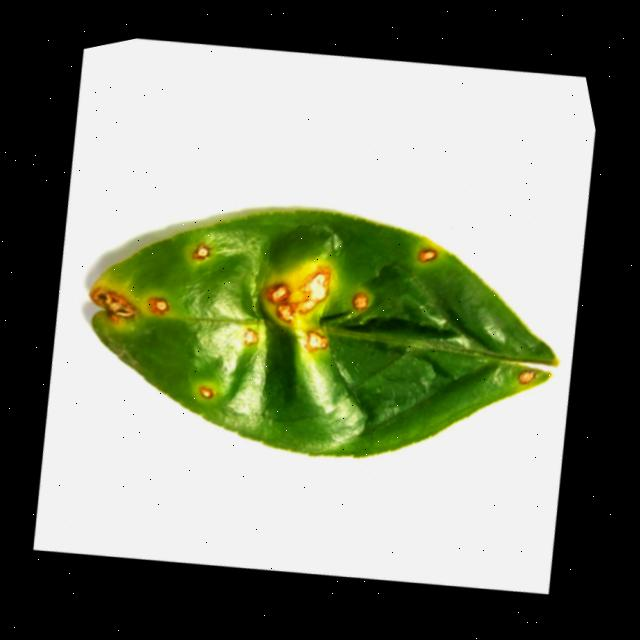antracnose: (90, 210, 555, 456), (266, 267, 330, 322), (91, 287, 136, 320), (302, 330, 327, 351), (148, 297, 169, 314), (352, 293, 368, 310), (193, 243, 209, 258), (243, 328, 257, 345), (518, 370, 534, 383), (419, 249, 436, 261), (199, 386, 214, 398)
